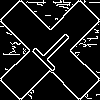T: (25, 25, 79, 79)
